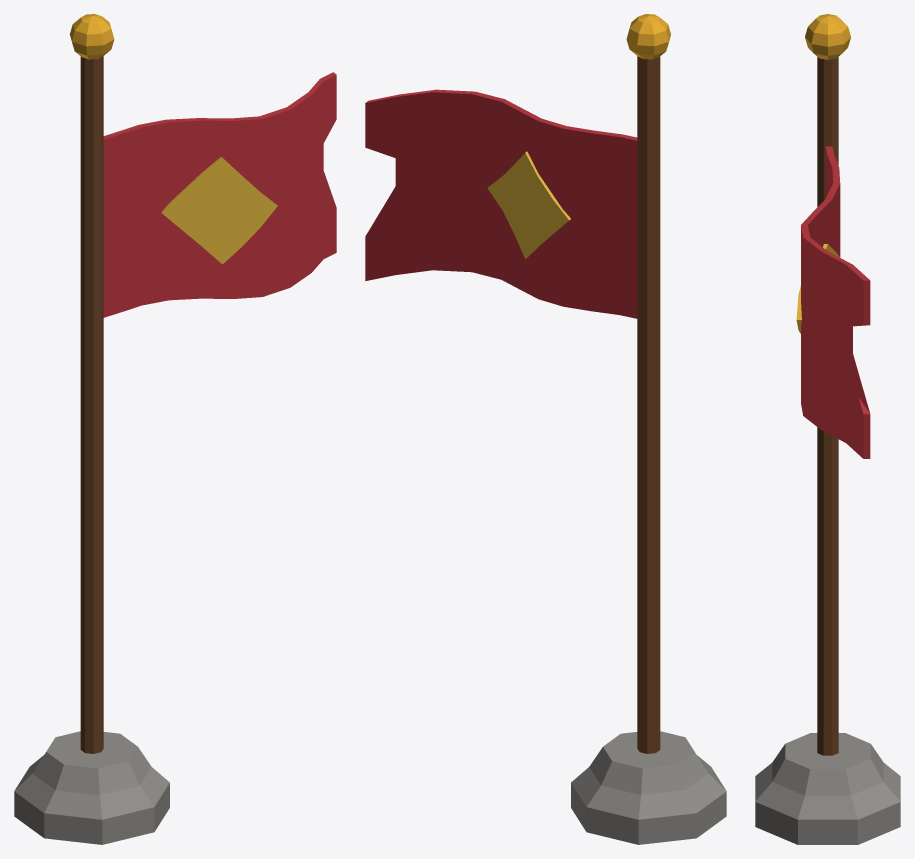
The model's file is flag-pixor.glb.
3 renders of one model, left to right at view 1: azimuth 30°, elevation 25°; view 2: azimuth 150°, elevation 25°; view 3: azimuth 270°, elevation 25°, orthographic.
Visible parts, largest first — view 1: Flag cloth, Flag pole, Flag base, Flag emblem, Flag finial; view 2: Flag cloth, Flag pole, Flag base, Flag emblem, Flag finial; view 3: Flag cloth, Flag base, Flag pole, Flag finial.
Boxes of the visible parts, x1,y1,x2,y2 form: Flag cloth: [103, 72, 336, 317]; Flag pole: [80, 56, 103, 753]; Flag base: [14, 731, 169, 844]; Flag emblem: [161, 157, 277, 264]; Flag finial: [69, 14, 114, 59]; Flag cloth: [365, 89, 637, 318]; Flag pole: [637, 56, 660, 753]; Flag base: [571, 731, 726, 844]; Flag emblem: [487, 151, 570, 258]; Flag finial: [626, 14, 670, 59]; Flag cloth: [801, 146, 870, 458]; Flag base: [755, 733, 900, 844]; Flag pole: [817, 57, 838, 755]; Flag finial: [805, 14, 850, 59].
Size of the model in its own units: 1.62 by 3.8 by 0.6282.
